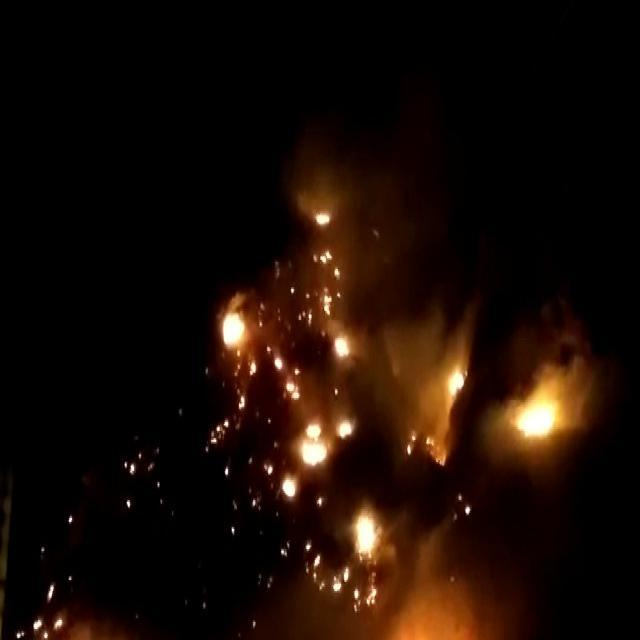Fire: (220, 291, 302, 411), (308, 196, 356, 362), (303, 514, 390, 600), (273, 412, 357, 500), (504, 367, 571, 442), (219, 309, 249, 346), (445, 360, 467, 408), (316, 206, 328, 226), (317, 207, 331, 224), (248, 360, 258, 372), (275, 352, 282, 367), (402, 444, 412, 454), (257, 295, 265, 306), (318, 252, 324, 266), (324, 291, 330, 305), (240, 399, 248, 409), (267, 347, 272, 358), (336, 265, 340, 275), (258, 321, 264, 326), (327, 300, 332, 306), (314, 252, 316, 267), (268, 468, 272, 474), (412, 427, 414, 438), (336, 288, 339, 294)
Smoke: (359, 173, 427, 304), (510, 290, 598, 350), (376, 300, 448, 370), (408, 514, 457, 594), (455, 274, 484, 346)
